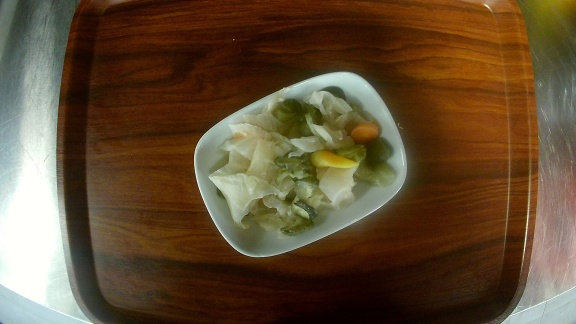tursu: (193, 71, 409, 258)
